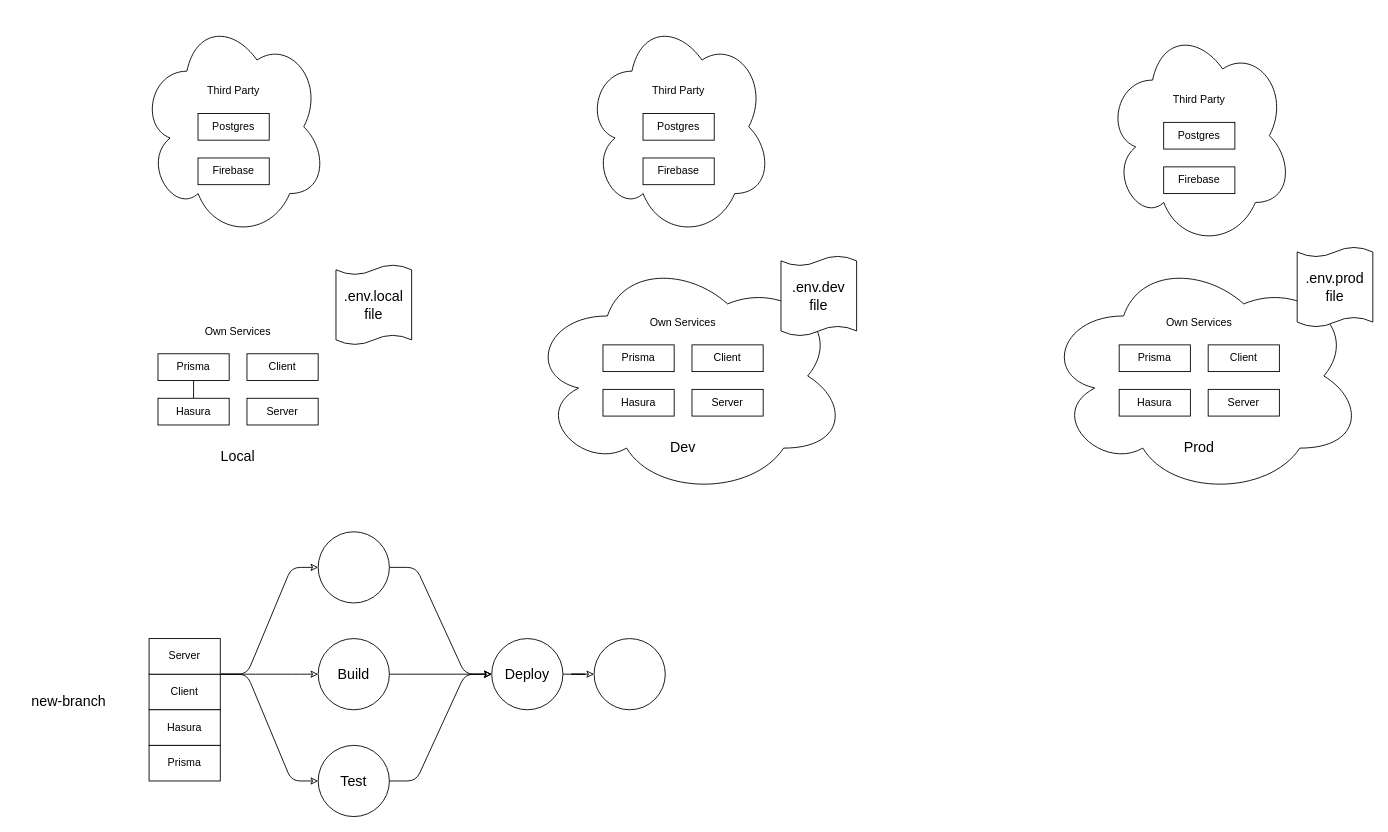
This 1388x832 diagram has some shape labels left out. Here are the shapes that lost their labels. From the top down, the centre of each, then its label:
[353,567]: Lint
[629,674]: e2e
